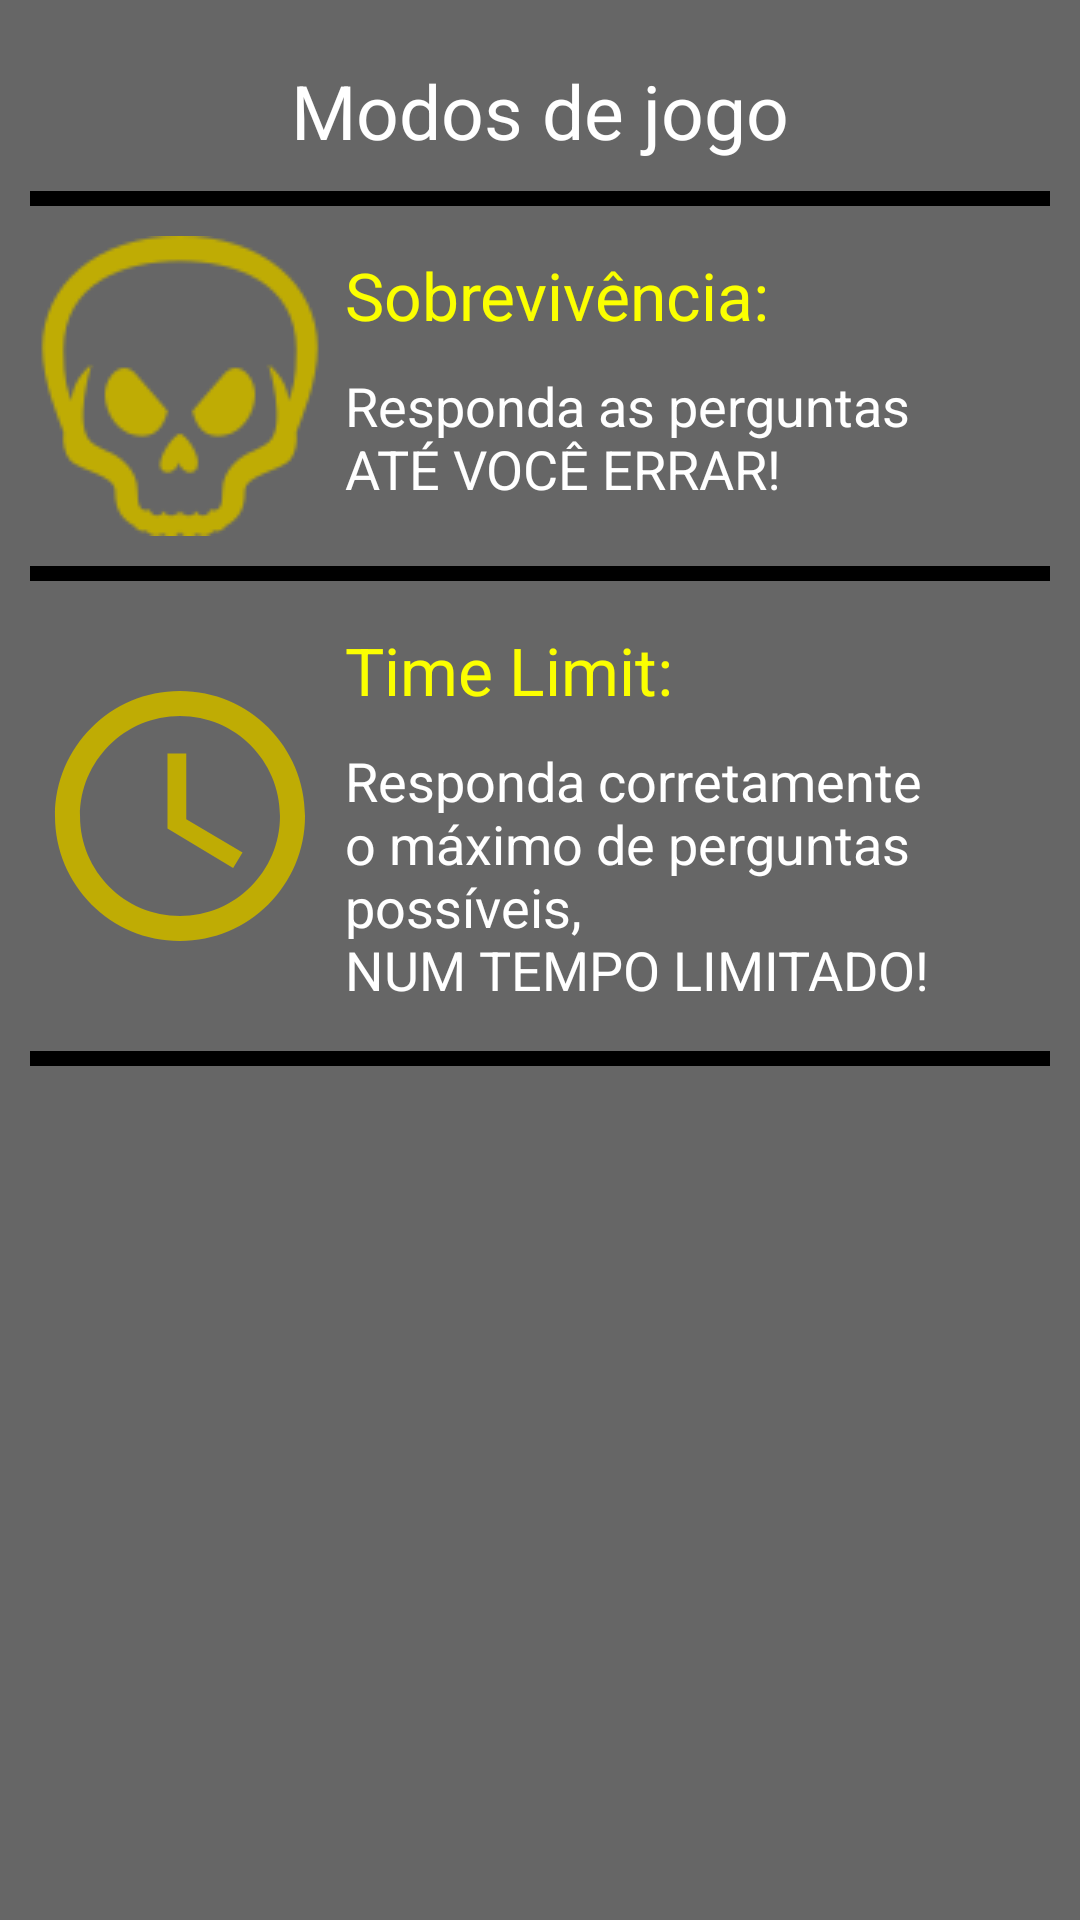

Named icons in this screenshot (1080 × 1920) and their bounding boxes, bbox(x1, y1, x2, y2):
survivalmode: bbox(41, 236, 319, 536)
